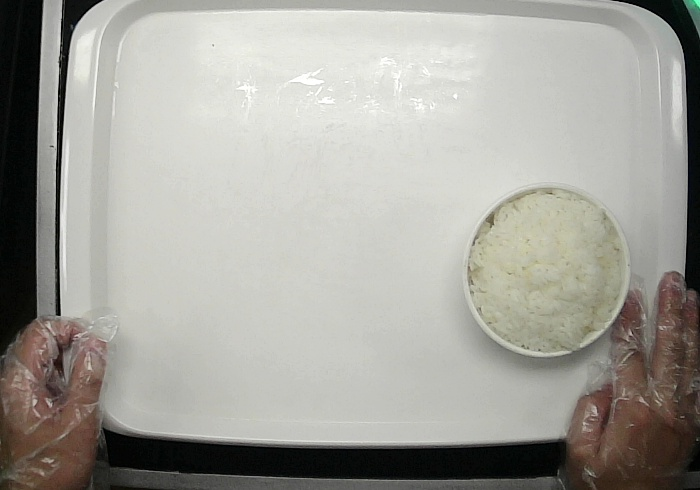HZYJPL-Fan_Wan: (460, 181, 632, 358)
